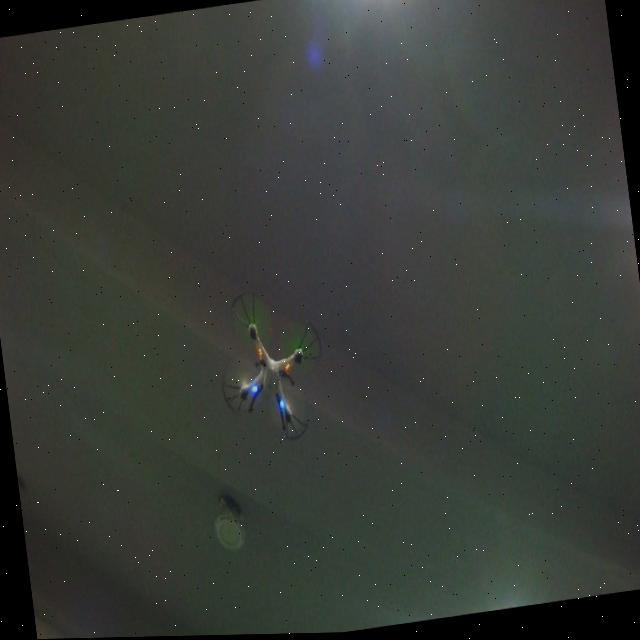drone: (210, 281, 336, 451)
